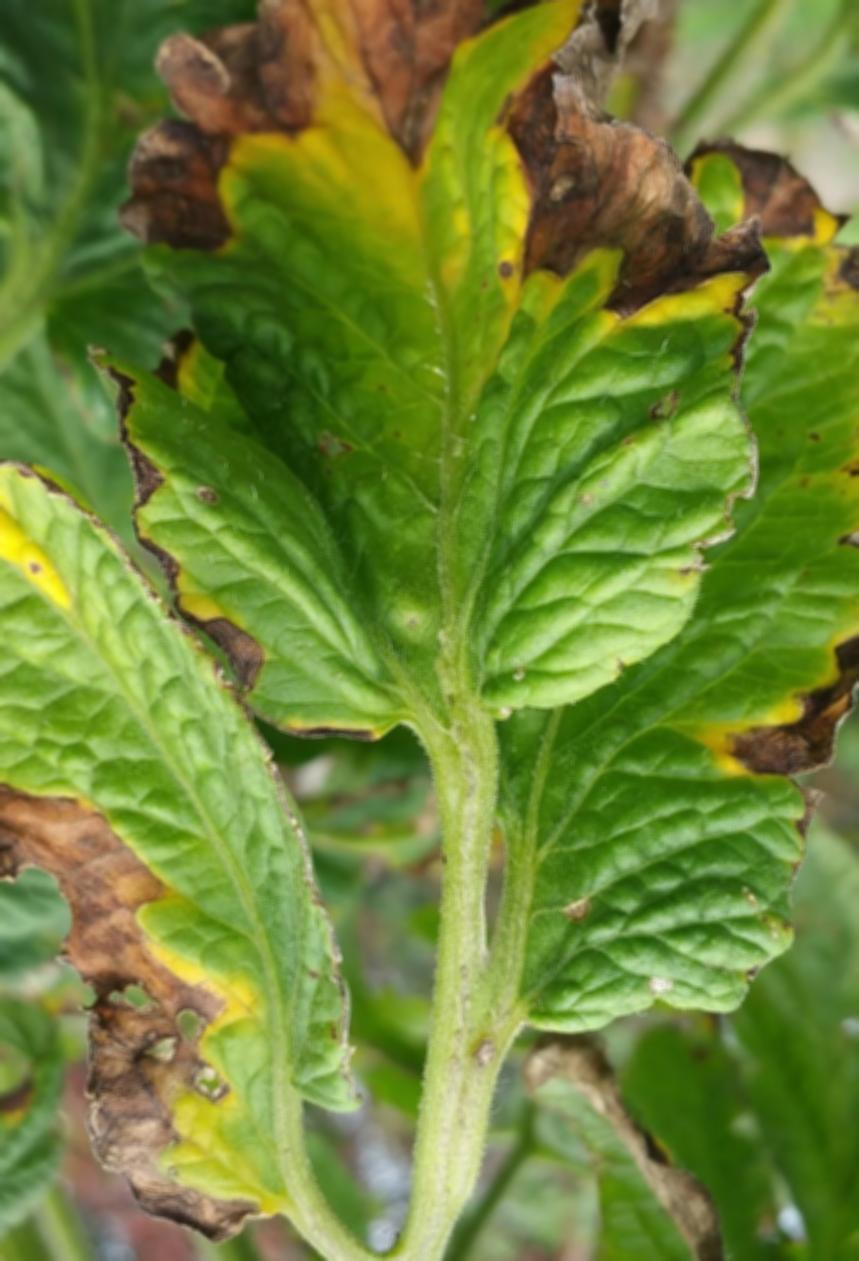Tomato leaf bacterial spot: (129, 0, 769, 782), (445, 122, 859, 1055), (0, 322, 356, 1261)
